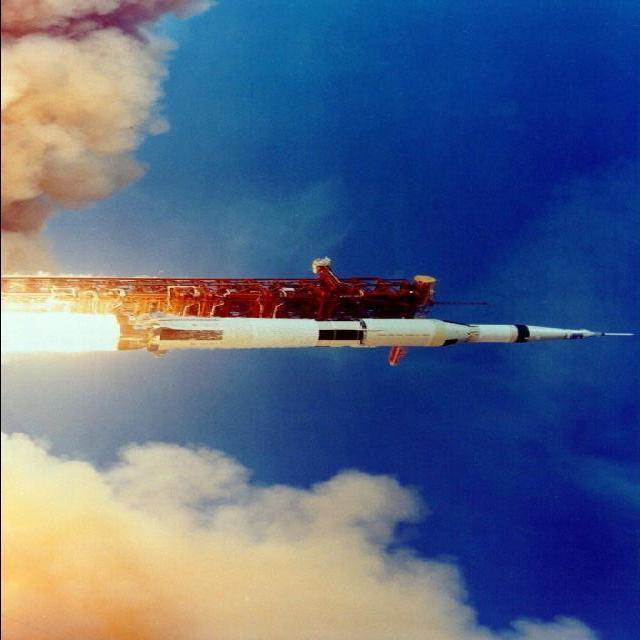missile: (105, 310, 638, 355)
